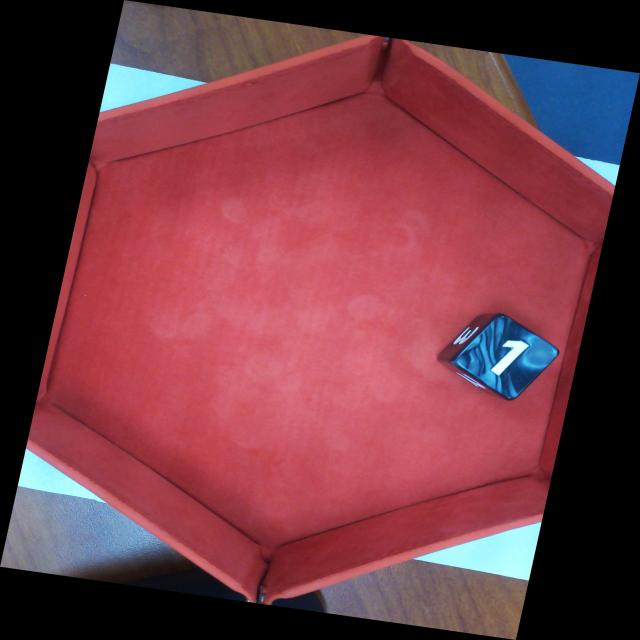dice: (455, 313, 561, 401)
